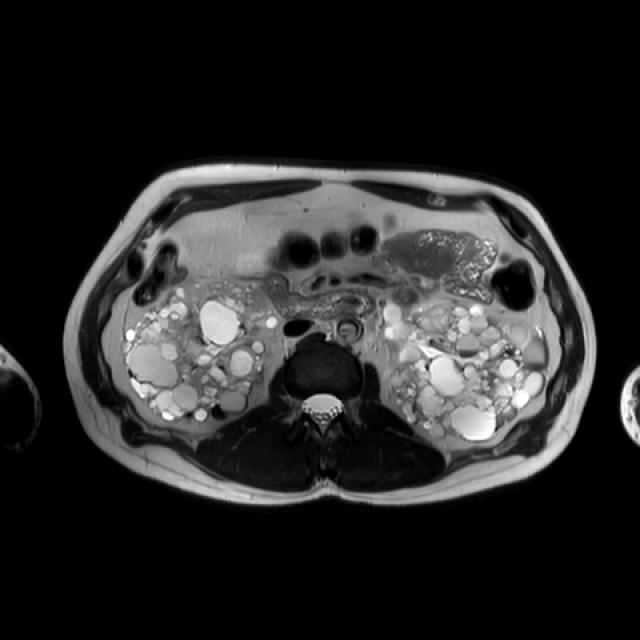sag: (120, 276, 277, 423)
sol: (380, 298, 549, 443)
